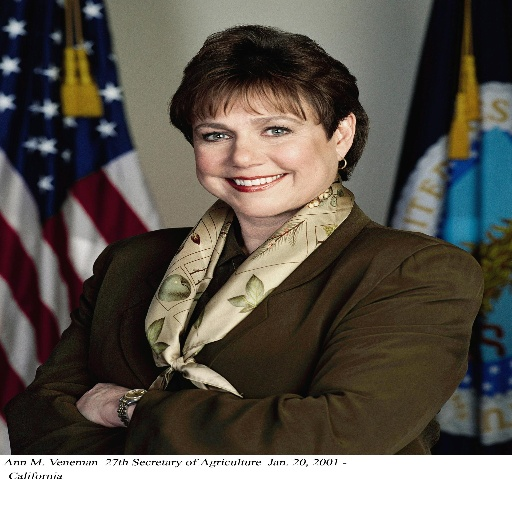hand: (72, 376, 132, 423)
